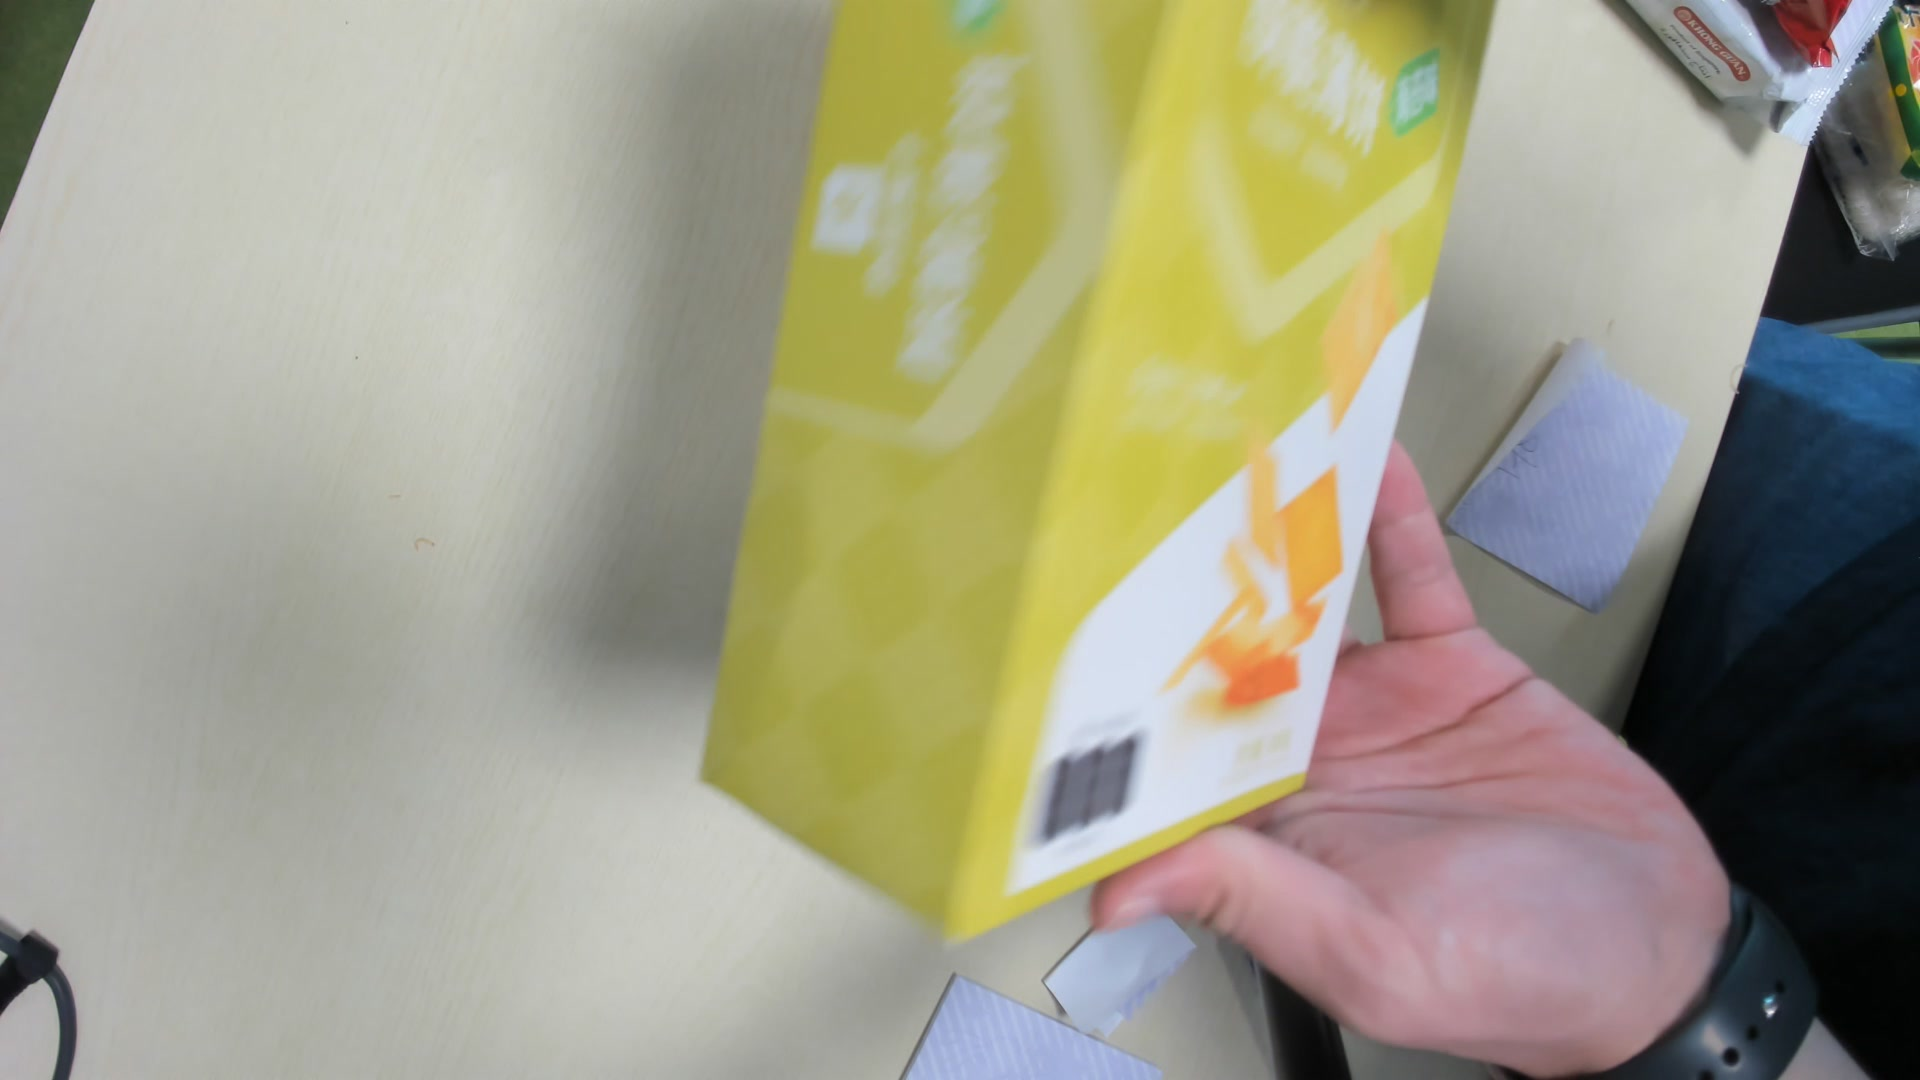BiscuitsCrackersCookies_300-399g_Halal_NonHealthy: (702, 1, 1497, 959)
